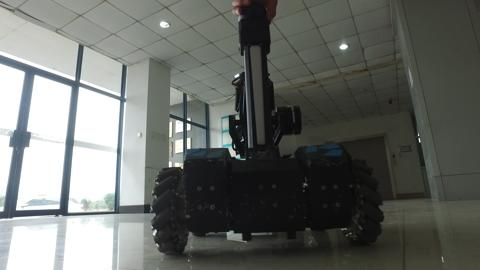chariot: (145, 19, 394, 257)
